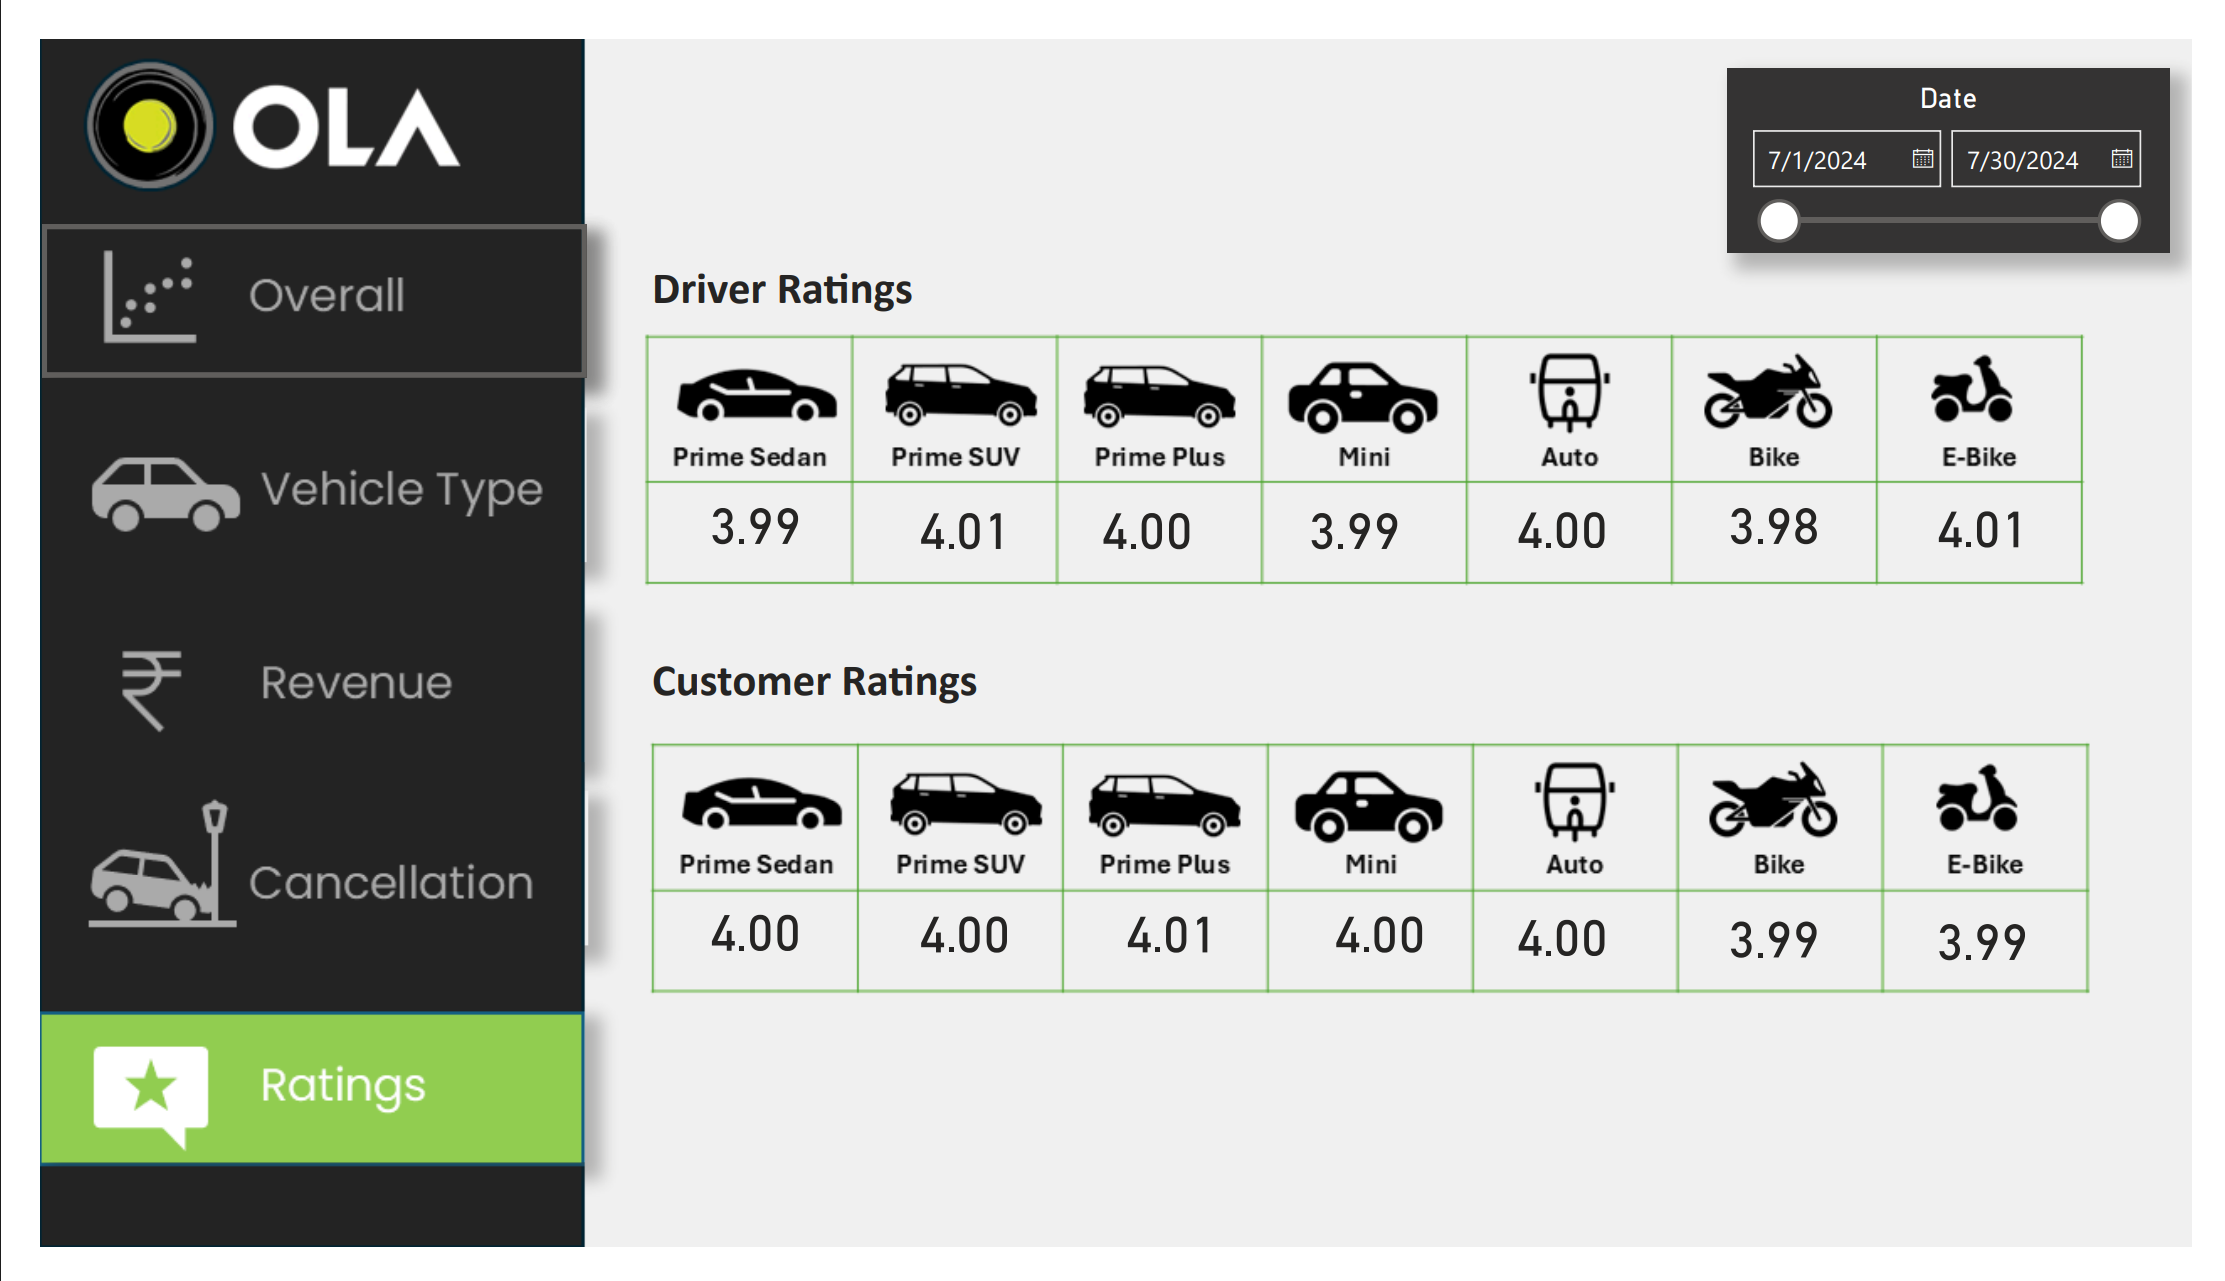

Layout of this report page (visuals, bound fields, positions):
{"tool":"powerbi","page":{"name":"Ratings","canvas":[1280,720],"ordinal":4},"visuals":[{"type":"actionButton","box":[1.1,110.2,323.9,91.3],"z":0},{"type":"actionButton","box":[0,576.6,323.9,91.3],"z":1000},{"type":"actionButton","box":[0,110.2,325,91.3],"z":2000},{"type":"actionButton","box":[2.2,447.4,323.9,91.3],"z":3000},{"type":"actionButton","box":[0,338.4,323.9,91.3],"z":4000},{"type":"actionButton","box":[1.1,219.3,323.9,91.3],"z":5000},{"type":"card","fields":{"Values":["Avg(July.Driver_Ratings)"]},"box":[371.5,264.4,108.8,46.8],"z":5001},{"type":"card","fields":{"Values":["Avg(July.Driver_Ratings)"]},"box":[495.7,267.1,108.6,47.1],"z":5002},{"type":"card","fields":{"Values":["Avg(July.Driver_Ratings)"]},"box":[604.3,267.1,108.6,47.1],"z":5003},{"type":"card","fields":{"Values":["Avg(July.Driver_Ratings)"]},"box":[727.1,267.1,110,47.1],"z":5004},{"type":"card","fields":{"Values":["Avg(July.Driver_Ratings)"]},"box":[851.4,272.9,108.6,34.3],"z":5005},{"type":"card","fields":{"Values":["Avg(July.Driver_Ratings)"]},"box":[977.2,264.4,108.8,46.8],"z":5006},{"type":"card","fields":{"Values":["Avg(July.Driver_Ratings)"]},"box":[1101,266,108.8,46.8],"z":5007},{"type":"card","fields":{"Values":["Avg(July.Customer_Rating)"]},"box":[371.4,505.7,108.6,47.1],"z":5008},{"type":"card","fields":{"Values":["Avg(July.Customer_Rating)"]},"box":[495.7,507.1,108.6,47.1],"z":5009},{"type":"card","fields":{"Values":["Avg(July.Customer_Rating)"]},"box":[618.6,507.1,108.6,47.1],"z":5010},{"type":"card","fields":{"Values":["Avg(July.Customer_Rating)"]},"box":[742.9,507.1,108.6,47.1],"z":5011},{"type":"card","fields":{"Values":["Avg(July.Customer_Rating)"]},"box":[851.4,508.6,108.6,47.1],"z":5012},{"type":"card","fields":{"Values":["Avg(July.Customer_Rating)"]},"box":[977.1,510,108.6,47.1],"z":5013},{"type":"card","fields":{"Values":["Avg(July.Customer_Rating)"]},"box":[1101.4,511.4,108.6,47.1],"z":5014},{"type":"textbox","box":[358.6,127.1,201.4,42.9],"z":5015},{"type":"textbox","box":[358.6,360,300,45.7],"z":5016},{"type":"slicer","title":"Date","fields":{"Values":["July.Date"]},"box":[1004.3,17.1,262.9,110],"z":5017}]}

Visuals, with their boxes in screenshot pixels (x1, y1, x2, y2), scaled from the page's 1280x720 canvas onto the 2225x1281 screenshot:
actionButton: 2 196 565 359
actionButton: 0 1026 563 1188
actionButton: 0 196 565 359
actionButton: 4 796 567 958
actionButton: 0 602 563 765
actionButton: 2 390 565 553
card - Avg(July.Driver_Ratings): 646 470 835 554
card - Avg(July.Driver_Ratings): 862 475 1050 559
card - Avg(July.Driver_Ratings): 1050 475 1239 559
card - Avg(July.Driver_Ratings): 1264 475 1455 559
card - Avg(July.Driver_Ratings): 1480 486 1669 547
card - Avg(July.Driver_Ratings): 1699 470 1888 554
card - Avg(July.Driver_Ratings): 1914 473 2103 557
card - Avg(July.Customer_Rating): 646 900 834 984
card - Avg(July.Customer_Rating): 862 902 1050 986
card - Avg(July.Customer_Rating): 1075 902 1264 986
card - Avg(July.Customer_Rating): 1291 902 1480 986
card - Avg(July.Customer_Rating): 1480 905 1669 989
card - Avg(July.Customer_Rating): 1698 907 1887 991
card - Avg(July.Customer_Rating): 1915 910 2103 994
textbox: 623 226 973 302
textbox: 623 640 1145 722
"Date" slicer: 1746 30 2203 226
